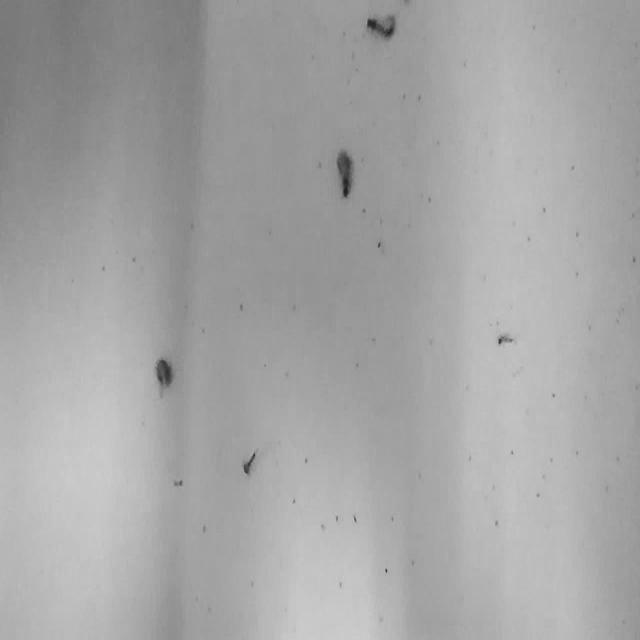larvas: (336, 148, 352, 198), (366, 15, 396, 38), (155, 358, 172, 386), (242, 447, 258, 475), (497, 332, 517, 346)
